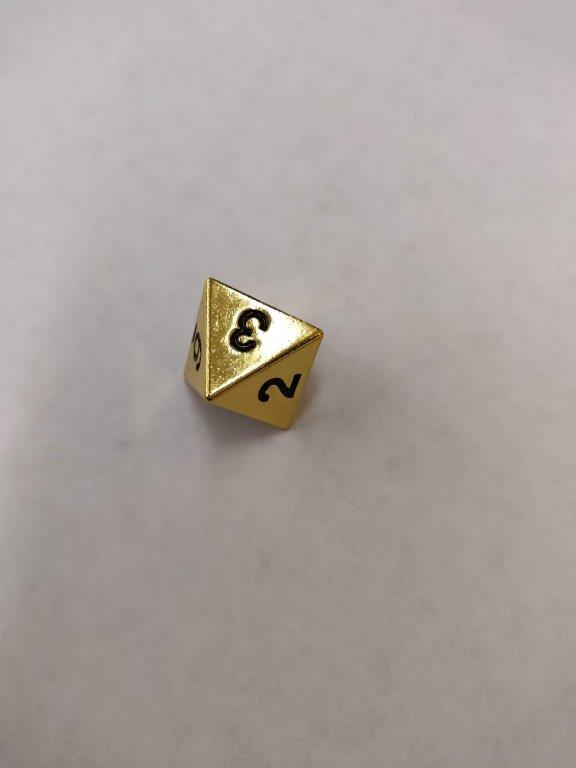d8-3: (182, 274, 325, 435)
